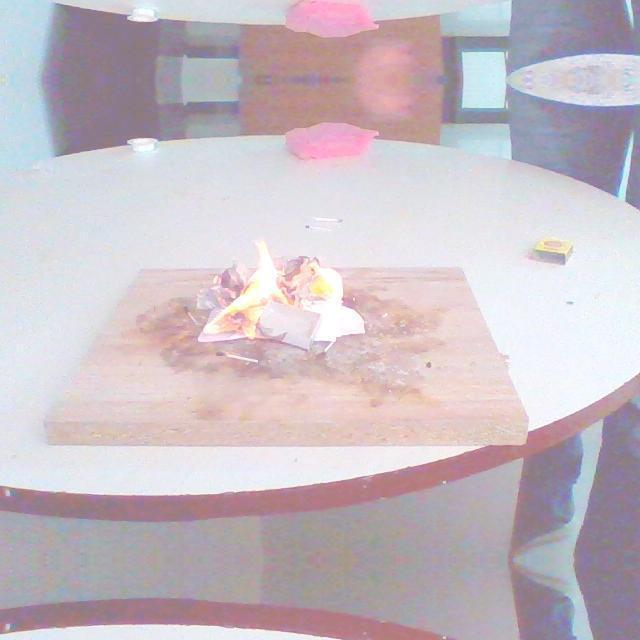smoke: (245, 237, 291, 307)
